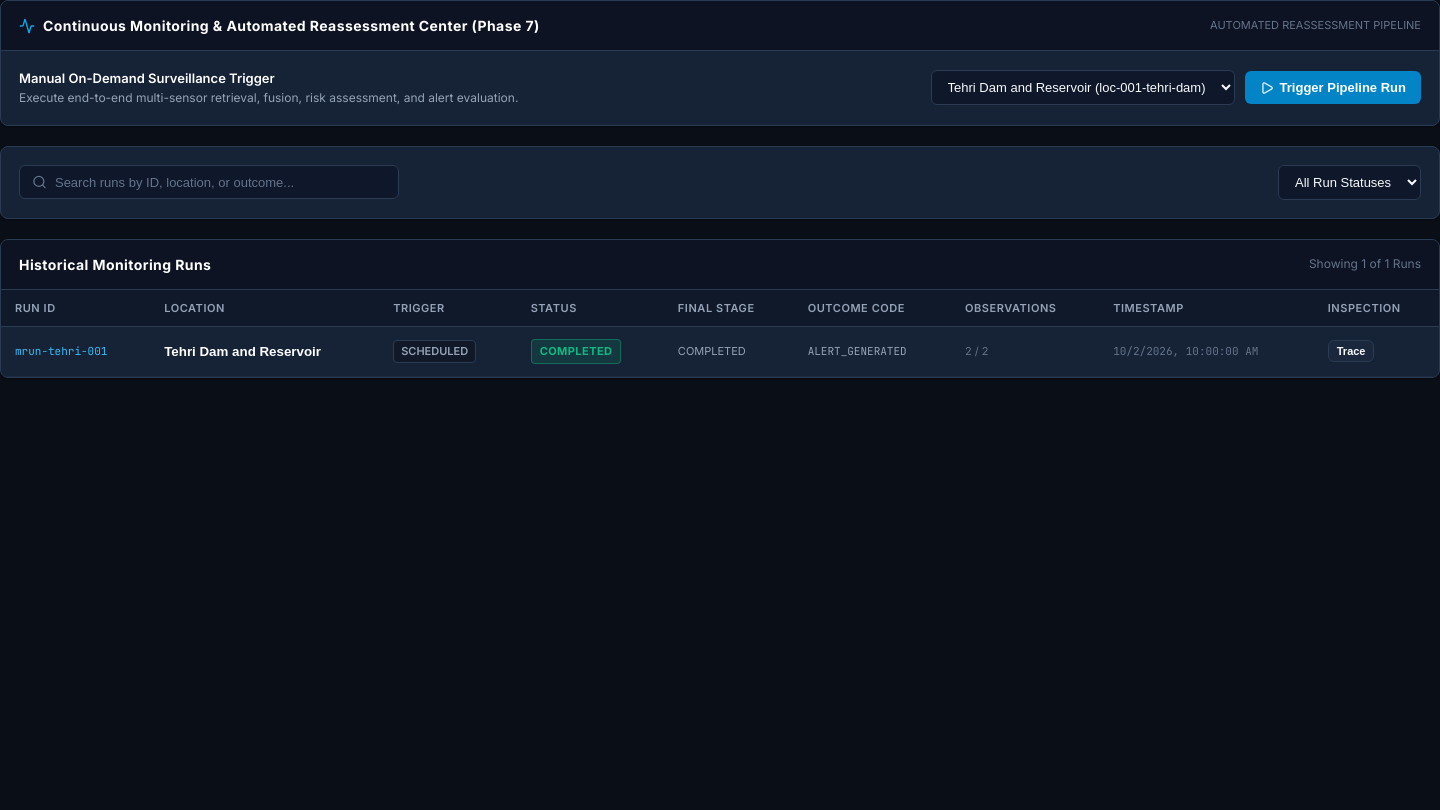
it: SATGUARD Phase 8 — Government Intelligence Dashboard Test Suite › 11 & 12. Monitoring center displays runs, statuses, and sequential stage transitions
Expected: the text "mrun-tehri-001" is shown, [1,326,150,376]
Expected: the text "SCHEDULED" is shown, [393,340,476,362]
// Click trace
Click the button "Trace". click: point(1351, 351)
box: [1328,340,1374,362]
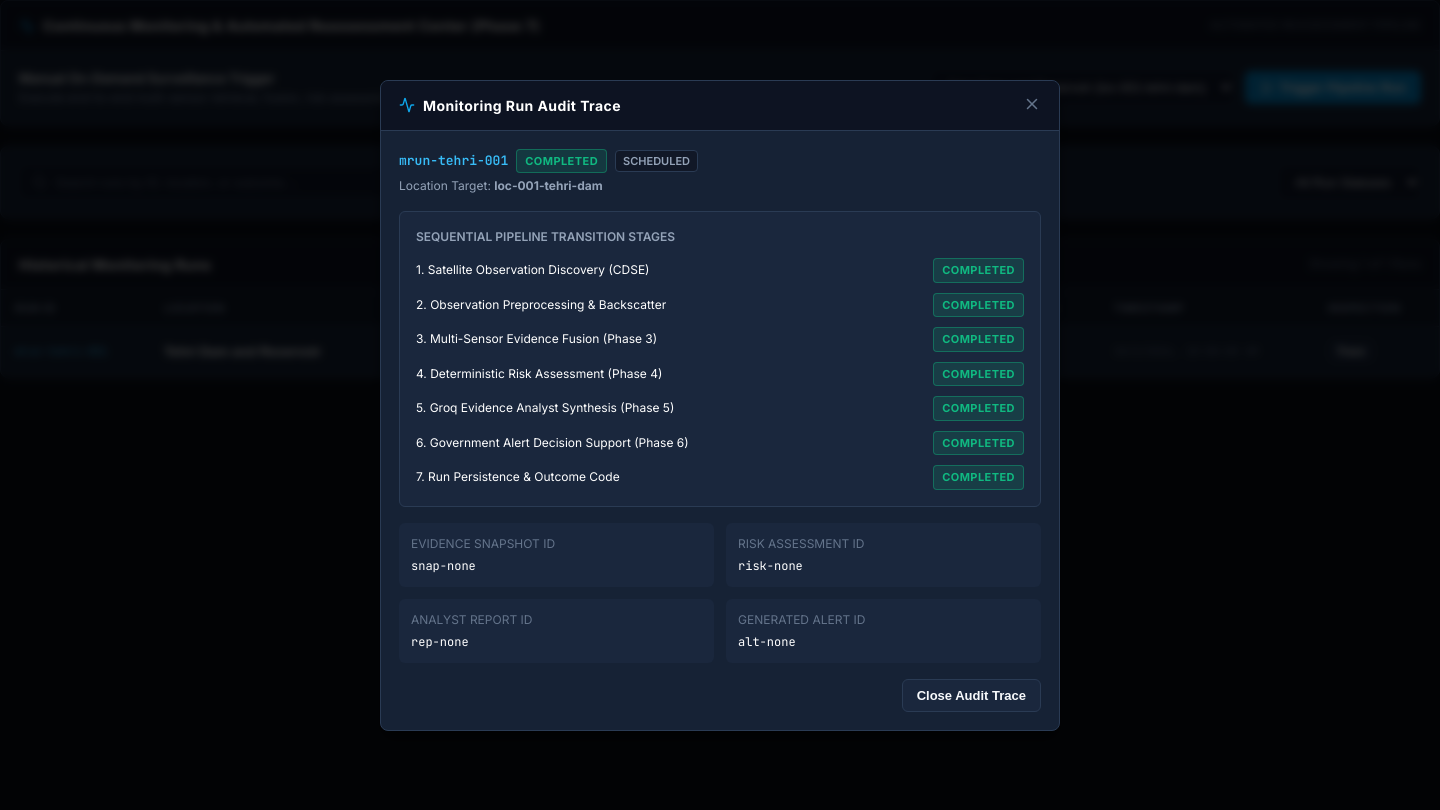
Expected: the text "Monitoring Run Audit Trace" is shown, [423,94,621,116]
Expected: the text "1. Satellite Observation Discovery (CDSE)" is shown, [416,261,650,279]
Expected: the text "4. Deterministic Risk Assessment (Phase 4)" is shown, [416,365,662,383]
